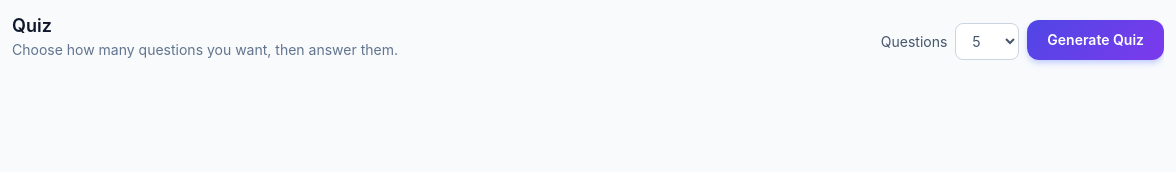
Scenario: QuizPanel (simplified) › shows a clear message when the quiz cannot be created
This screenshot has width=1176, height=172.
Click the button "Generate Quiz" at (1096, 40), box x1=1027 y1=20 x2=1164 y2=60
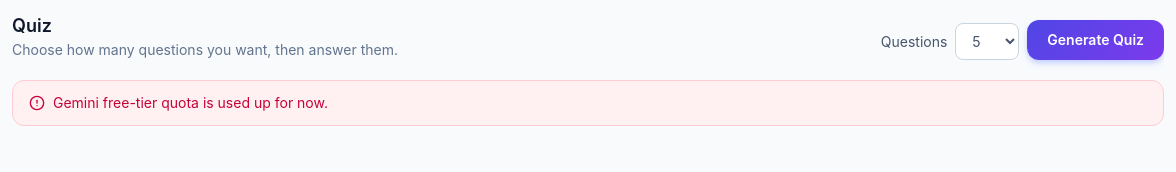
expect the message shows "free-tier quota is used up": met, box x1=53 y1=94 x2=328 y2=111
